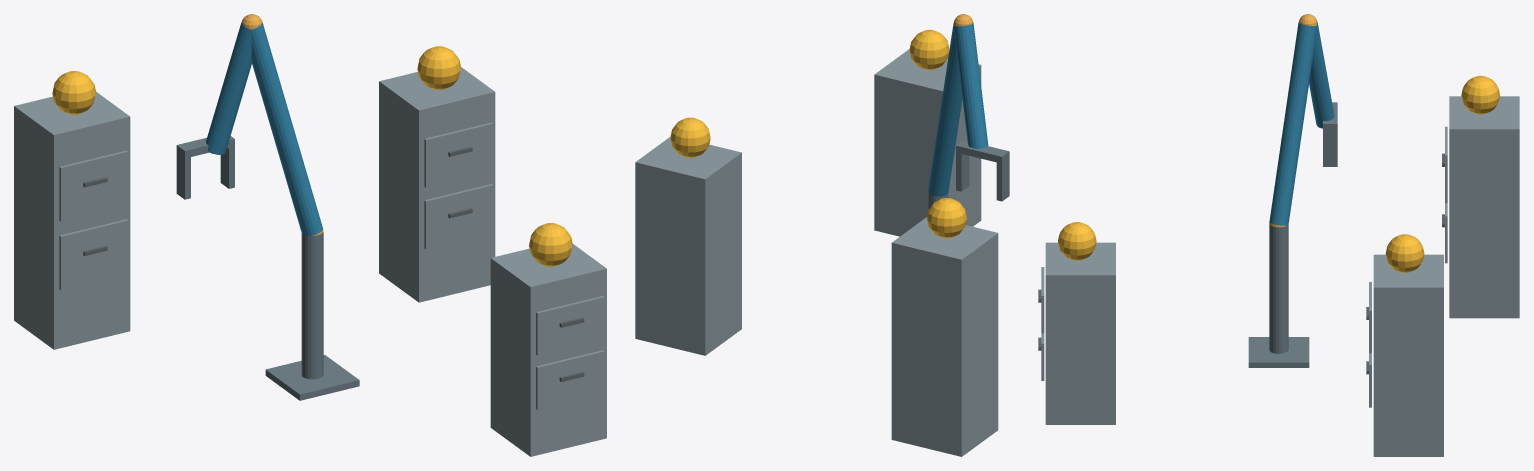
3 views of the same model, side by side, from view 1: azimuth 30°, elevation 25°; view 2: azimuth 150°, elevation 25°; view 3: azimuth 270°, elevation 25° (orthographic). The views are drawn at different scales.
Parts seen in each view (by area): view 1: cabinet_3 body, cabinet_2 body, cabinet_1 body, moving link 1, cabinet_3 drawer front.001, cabinet_3 drawer front, cabinet_2 drawer front, cabinet_2 drawer front.001, fixed post, cabinet_1 drawer front, cabinet_1 drawer front.001, moving link 2 (+5 smaller); view 2: cabinet_3 body, cabinet_2 body, cabinet_1 body, moving link 1, moving link 2, released ball_2, ball ball_3, released ball_1, gripper bridge, gripper finger -1, gripper finger 1; view 3: cabinet_3 body, cabinet_2 body, cabinet_1 body, moving link 1, fixed post, pedestal, moving link 2, ball ball_3, released ball_1, released ball_2, gripper finger 1.
Boxes of the visible parts, bbox=[...] form: cabinet_3 body: bbox=[14, 92, 130, 349]; cabinet_2 body: bbox=[379, 67, 495, 302]; cabinet_1 body: bbox=[490, 244, 606, 456]; moving link 1: bbox=[251, 22, 322, 236]; cabinet_3 drawer front.001: bbox=[59, 150, 128, 221]; cabinet_3 drawer front: bbox=[59, 219, 128, 290]; cabinet_2 drawer front: bbox=[424, 184, 493, 249]; cabinet_2 drawer front.001: bbox=[424, 122, 493, 187]; fixed post: bbox=[301, 232, 323, 379]; cabinet_1 drawer front: bbox=[536, 350, 604, 409]; cabinet_1 drawer front.001: bbox=[536, 296, 604, 355]; moving link 2: bbox=[206, 21, 251, 154]; cabinet_3 body: bbox=[891, 217, 998, 456]; cabinet_2 body: bbox=[635, 136, 741, 355]; cabinet_1 body: bbox=[874, 49, 981, 236]; moving link 1: bbox=[928, 22, 962, 196]; moving link 2: bbox=[954, 23, 988, 148]; released ball_2: bbox=[670, 117, 710, 157]; ball ball_3: bbox=[927, 198, 966, 238]; released ball_1: bbox=[909, 29, 949, 69]; gripper bridge: bbox=[956, 140, 1009, 163]; gripper finger -1: bbox=[996, 158, 1009, 201]; gripper finger 1: bbox=[956, 152, 969, 191]; cabinet_3 body: bbox=[1449, 96, 1519, 318]; cabinet_2 body: bbox=[1373, 254, 1443, 456]; cabinet_1 body: bbox=[1045, 242, 1115, 424]; moving link 1: bbox=[1269, 22, 1316, 225]; fixed post: bbox=[1269, 224, 1288, 353]; pedestal: bbox=[1248, 337, 1309, 367]; moving link 2: bbox=[1309, 22, 1334, 128]; ball ball_3: bbox=[1461, 75, 1499, 114]; released ball_1: bbox=[1058, 222, 1096, 260]; released ball_2: bbox=[1385, 234, 1424, 272]; gripper finger 1: bbox=[1323, 130, 1337, 166].
Size of the model in its own units: 1.67 by 1.46 by 1.98.
